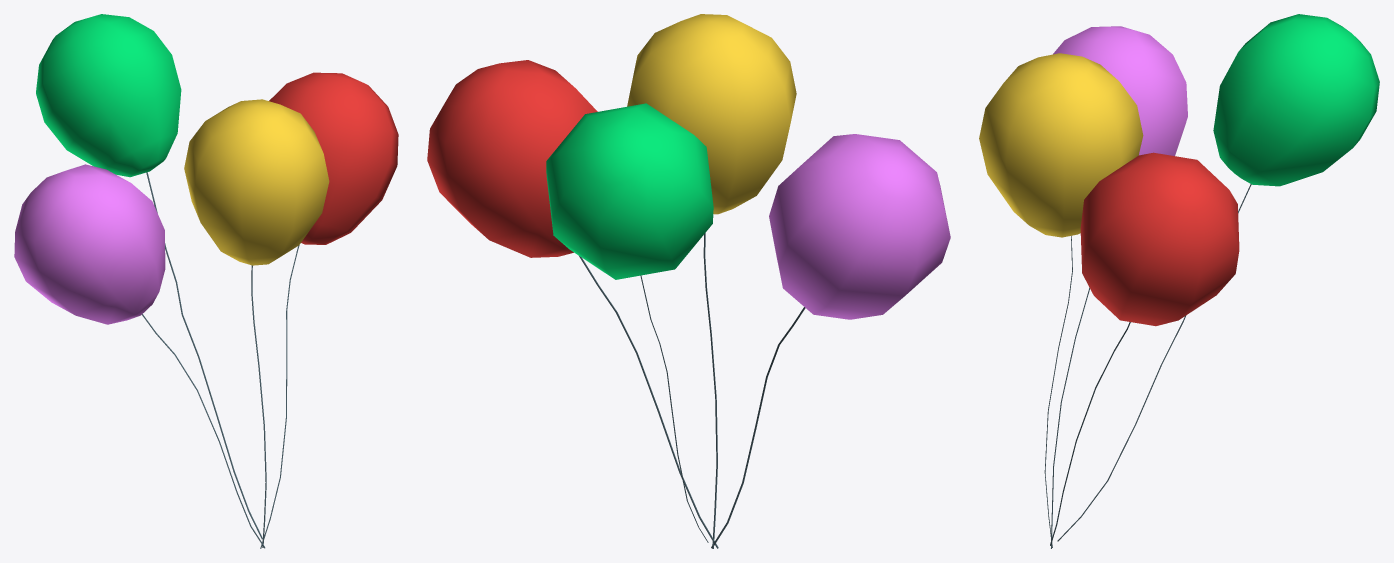
Rendered from Balloon_Collider.fbx.
The picture shows the model from 3 angles, left to right: view 1: azimuth 30°, elevation 25°; view 2: azimuth 150°, elevation 25°; view 3: azimuth 270°, elevation 25°; orthographic projection. The views are drawn at different scales.
Parts seen in each view (by area): view 1: Balloon_Collider; view 2: Balloon_Collider; view 3: Balloon_Collider.
Part boxes in pixels (left/top/right/bottom): Balloon_Collider: left=14, top=14, right=398, bottom=548; Balloon_Collider: left=427, top=14, right=950, bottom=548; Balloon_Collider: left=979, top=14, right=1379, bottom=548.
Size of the model in its own units: 104 by 117 by 84.28.
